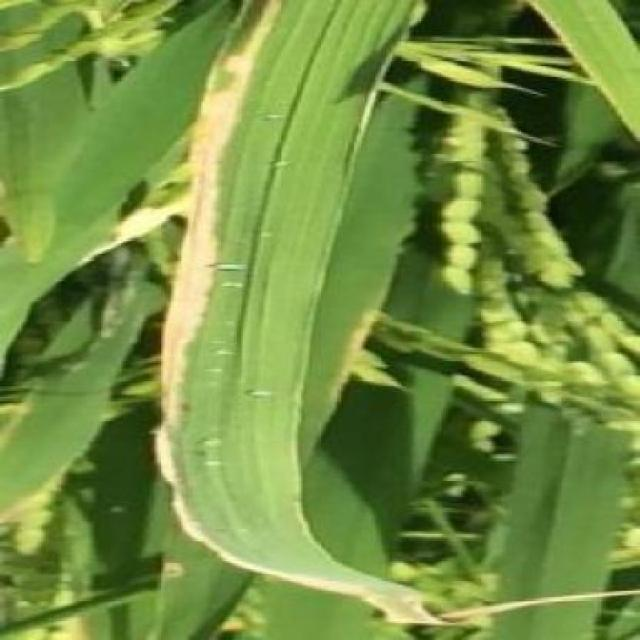Brown_Spot: (156, 0, 335, 525)
